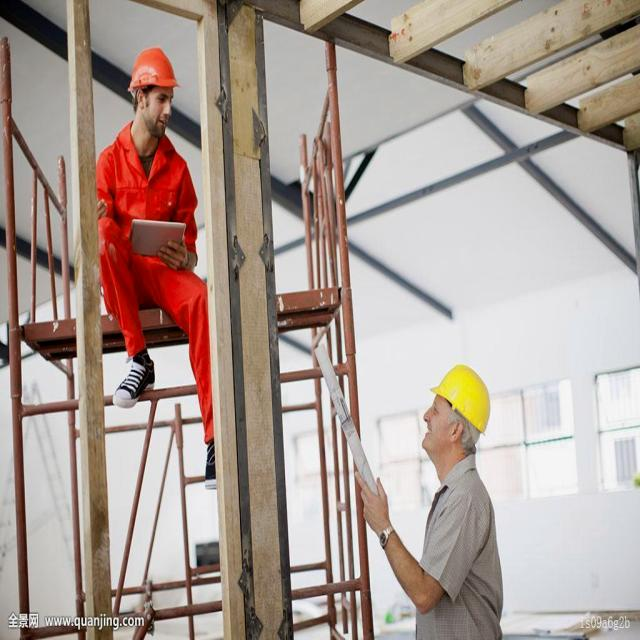face_nomask: (415, 394, 456, 462), (139, 84, 175, 140)
hand_noglove: (356, 468, 391, 546), (156, 230, 192, 278)
head_helmet: (426, 364, 494, 438), (124, 43, 184, 92)
person: (94, 44, 216, 489), (354, 360, 506, 638)
shoes: (111, 351, 159, 416)
